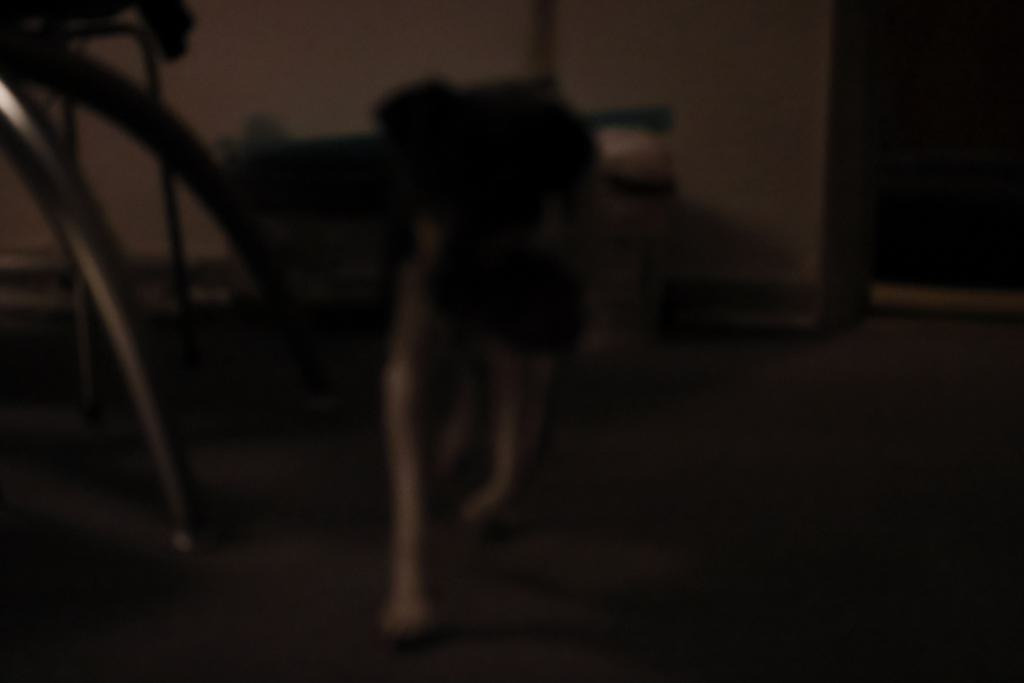Dog: (350, 0, 599, 656)
